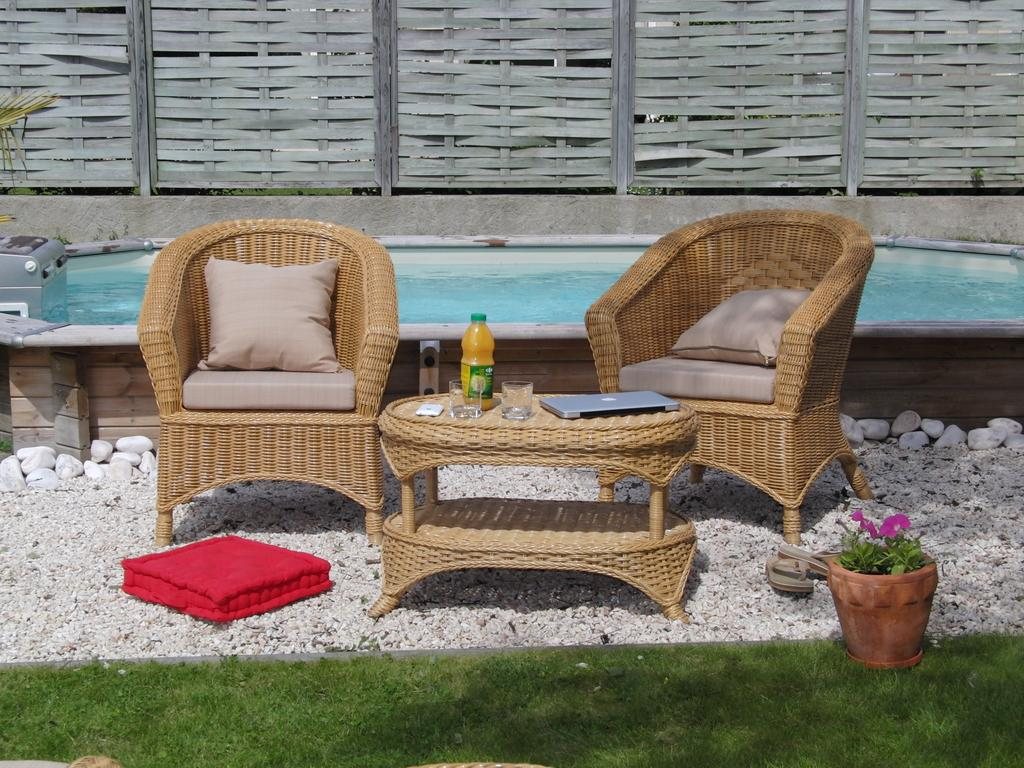Chair: (584, 208, 877, 546), (136, 217, 399, 549)
Laptop: (538, 389, 680, 419)
